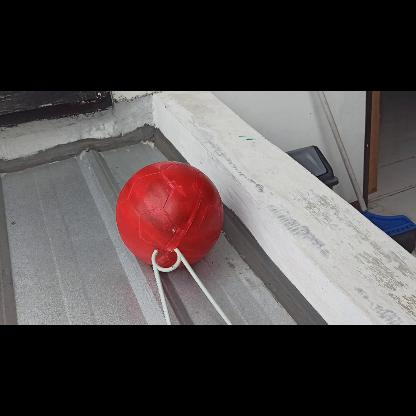red_ball: (115, 160, 223, 268)
